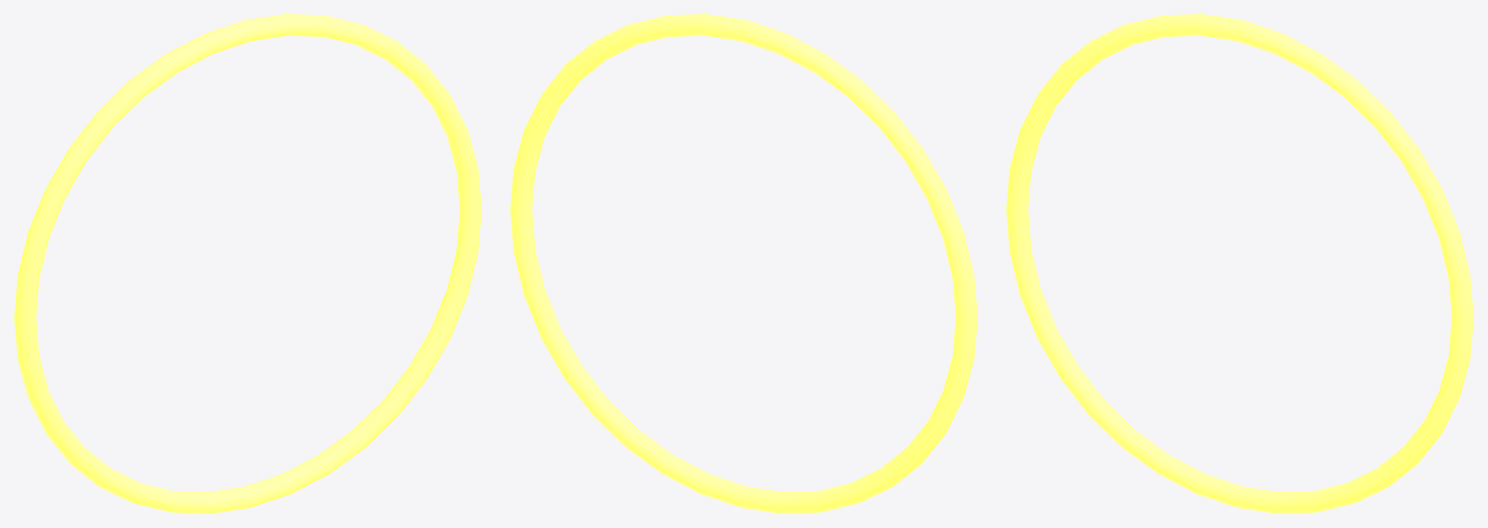
The model's file is locator_ring_igso.glb.
3 renders of one model, left to right at view 1: azimuth 30°, elevation 25°; view 2: azimuth 150°, elevation 25°; view 3: azimuth 330°, elevation 25°, orthographic.
Parts seen in each view (by area): view 1: LocatorRingNode; view 2: LocatorRingNode; view 3: LocatorRingNode.
Boxes of the visible parts, <box> form: LocatorRingNode: <box>14,14,481,513</box>; LocatorRingNode: <box>510,14,977,513</box>; LocatorRingNode: <box>1006,14,1473,513</box>.
Bounding box in the file's own units: 0.73 × 0.73 × 0.03.
